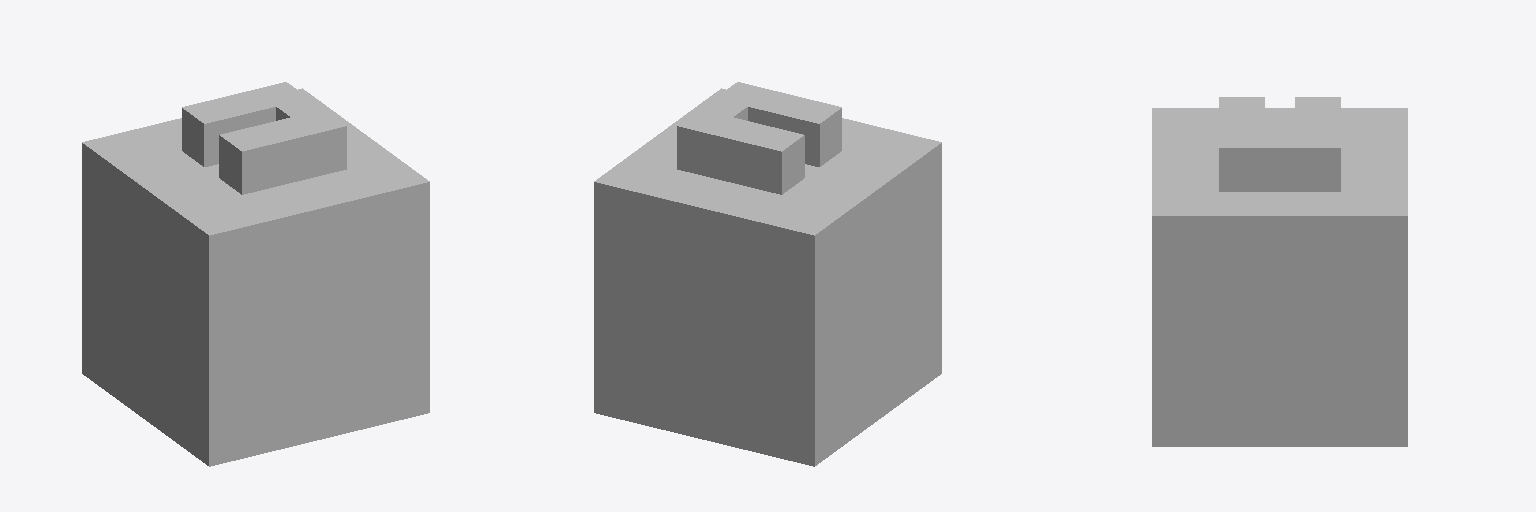
The model's file is U_cube_cap_preprocessed.obj.
The picture shows the model from 3 angles: view 1: azimuth 30°, elevation 25°; view 2: azimuth 150°, elevation 25°; view 3: azimuth 270°, elevation 25°; orthographic projection.
Bounding box in the file's own units: 0.08 × 0.095 × 0.08.